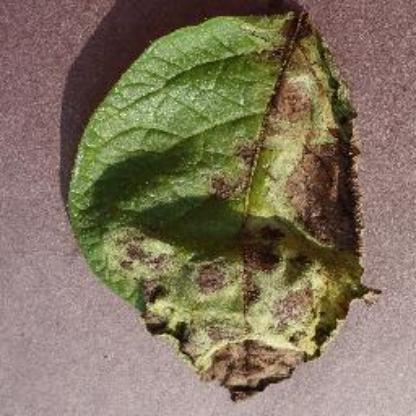Late-Blight: (50, 8, 386, 402)
